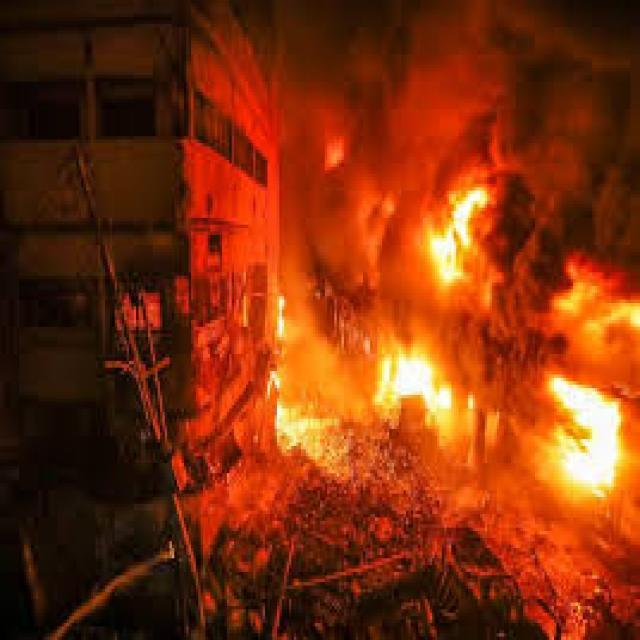Fire: (365, 179, 493, 430), (530, 245, 640, 510), (258, 286, 354, 446)
Smoke: (274, 0, 493, 177), (493, 3, 640, 239)
